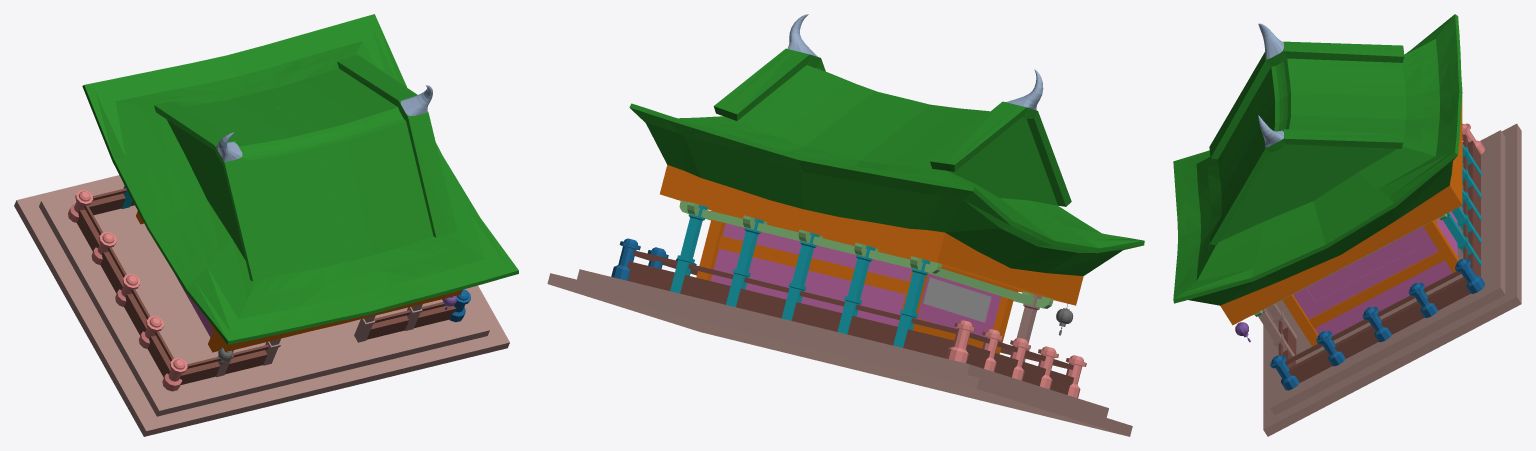
File: temple_k14.glb
3 views of the same model, side by side, from view 1: azimuth 30°, elevation 25°; view 2: azimuth 150°, elevation 25°; view 3: azimuth 270°, elevation 25° (orthographic). The views are drawn at different scales.
Parts seen in each view (by area): view 1: world; view 2: world; view 3: world.
Boxes of the visible parts, box(x1,y1,x2,y2) form: world: box(14, 14, 518, 436); world: box(547, 14, 1144, 436); world: box(1173, 14, 1521, 436).
Bounding box in the file's own units: 1.52 × 1.15 × 1.29.
